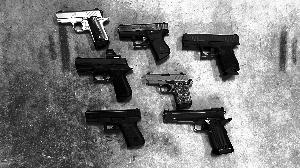handgun: (162, 108, 238, 157), (74, 50, 140, 104), (82, 102, 148, 151), (180, 32, 248, 73), (117, 21, 175, 62), (52, 8, 112, 43), (144, 66, 196, 104)
